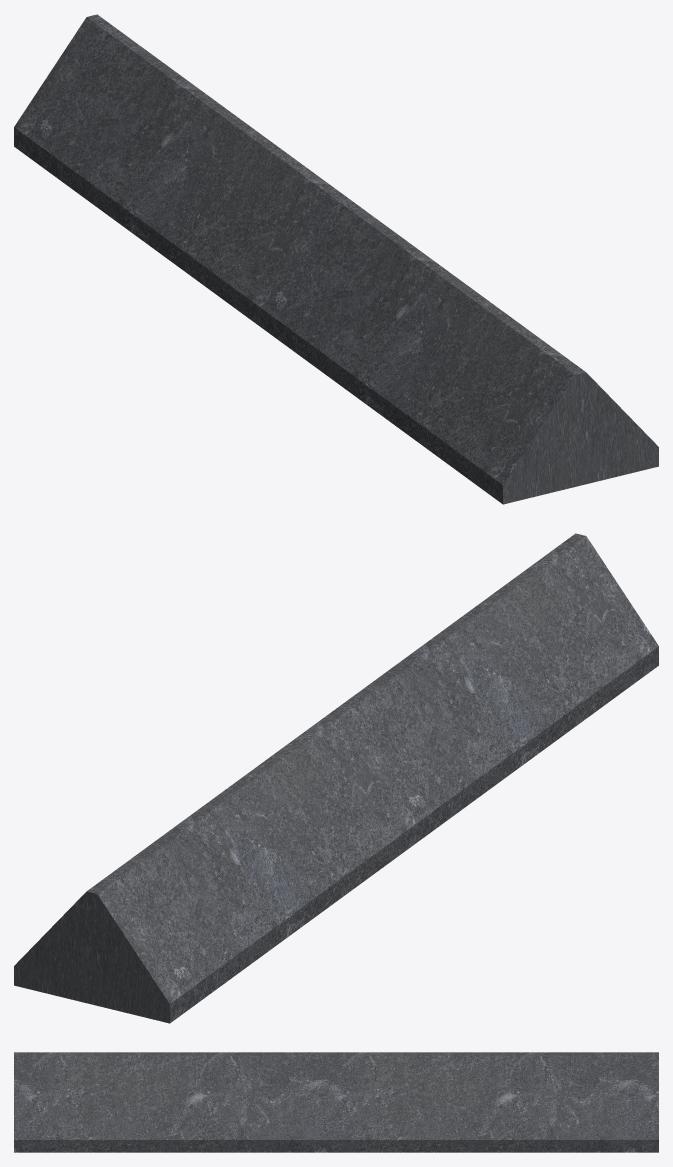
Rendered from StraightRamp.fbx.
3 renders of one model, top to bottom at view 1: azimuth 30°, elevation 25°; view 2: azimuth 150°, elevation 25°; view 3: azimuth 270°, elevation 25°, orthographic. The views are drawn at different scales.
Parts seen in each view (by area): view 1: SurfRamp.005; view 2: SurfRamp.005; view 3: SurfRamp.005.
Boxes of the visible parts, bbox=[...] form: SurfRamp.005: bbox=[14, 14, 658, 504]; SurfRamp.005: bbox=[14, 533, 658, 1023]; SurfRamp.005: bbox=[14, 1052, 658, 1152].
Size of the model in its own units: 2.21 by 1.51 by 12.
